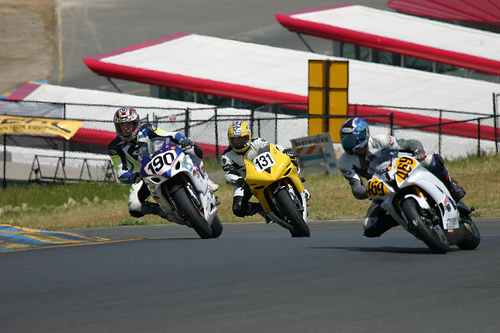helmet: (340, 122, 374, 150), (226, 122, 250, 153), (112, 110, 138, 135)
